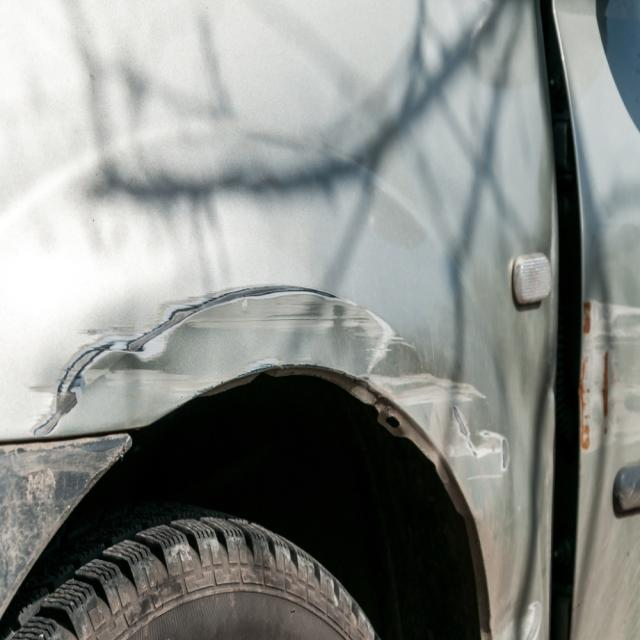scratch: (31, 281, 518, 477), (579, 297, 640, 455)
